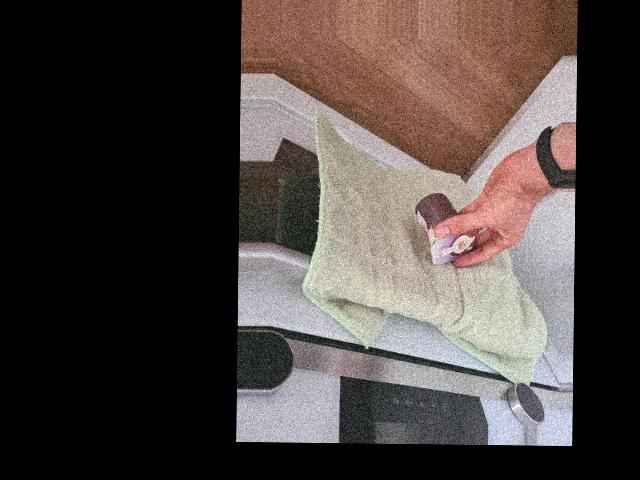milky: (414, 193, 478, 266)
